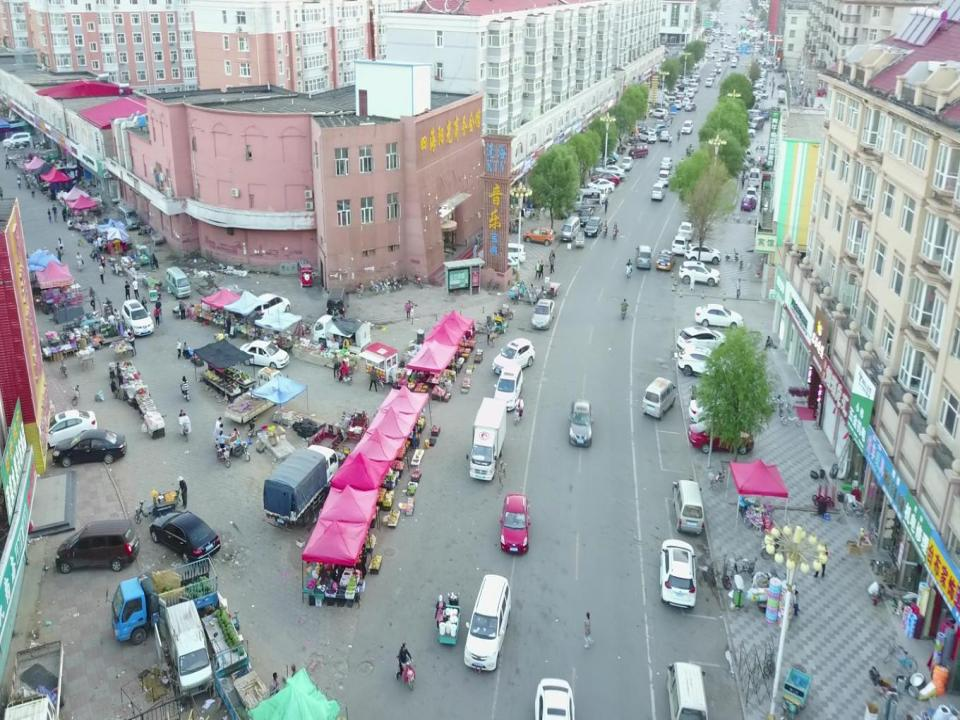car: (462, 573, 511, 674), (147, 507, 221, 563), (660, 537, 698, 613), (52, 431, 129, 465), (667, 661, 708, 720), (687, 420, 754, 454), (498, 492, 530, 556), (40, 410, 96, 446), (533, 676, 575, 720), (672, 479, 704, 536), (491, 336, 536, 376), (678, 346, 732, 378), (238, 339, 290, 372), (688, 397, 745, 425), (694, 300, 744, 330), (642, 375, 676, 419), (494, 362, 525, 410), (119, 298, 155, 336), (568, 399, 594, 449), (677, 326, 729, 350), (678, 260, 720, 287), (252, 293, 292, 319), (530, 298, 556, 332), (683, 242, 721, 263), (326, 285, 349, 316), (522, 225, 555, 246), (116, 203, 139, 229), (560, 215, 580, 243), (1, 132, 32, 147), (586, 178, 615, 194), (591, 172, 620, 187), (656, 249, 675, 271), (594, 164, 626, 177), (584, 216, 603, 236), (507, 242, 526, 262), (636, 244, 652, 267), (676, 220, 693, 241), (670, 235, 686, 255), (578, 205, 594, 225), (627, 142, 648, 157), (740, 195, 756, 212), (651, 182, 665, 200), (637, 131, 658, 143), (748, 166, 760, 187), (599, 149, 619, 161), (648, 106, 668, 118), (740, 147, 754, 163), (657, 168, 670, 185), (620, 156, 634, 170), (745, 109, 761, 121), (660, 156, 673, 170), (744, 184, 757, 198), (741, 126, 756, 138), (749, 117, 764, 129), (681, 120, 693, 133), (662, 86, 679, 94), (658, 129, 670, 140), (637, 121, 647, 133), (753, 90, 768, 98), (685, 102, 697, 111), (684, 78, 696, 86), (686, 87, 695, 97), (704, 76, 712, 87), (704, 52, 716, 59), (673, 99, 682, 107), (676, 91, 684, 99), (710, 69, 717, 76), (719, 55, 726, 61), (731, 57, 738, 62), (694, 72, 699, 79), (731, 61, 736, 67), (717, 66, 722, 72), (716, 60, 720, 66)
truck: (109, 555, 221, 646), (262, 442, 342, 527), (55, 515, 138, 577), (161, 603, 211, 694), (223, 365, 285, 423), (469, 399, 508, 483), (567, 188, 601, 211)
van: (164, 266, 191, 298)
